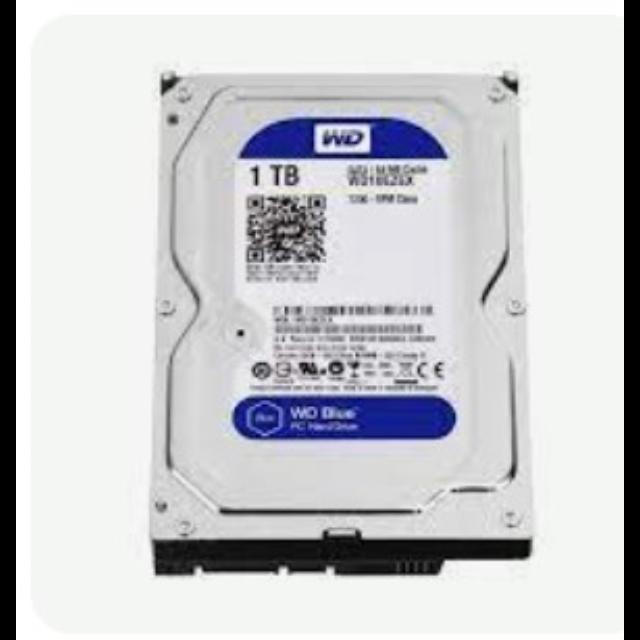HDD: (154, 75, 535, 586)
